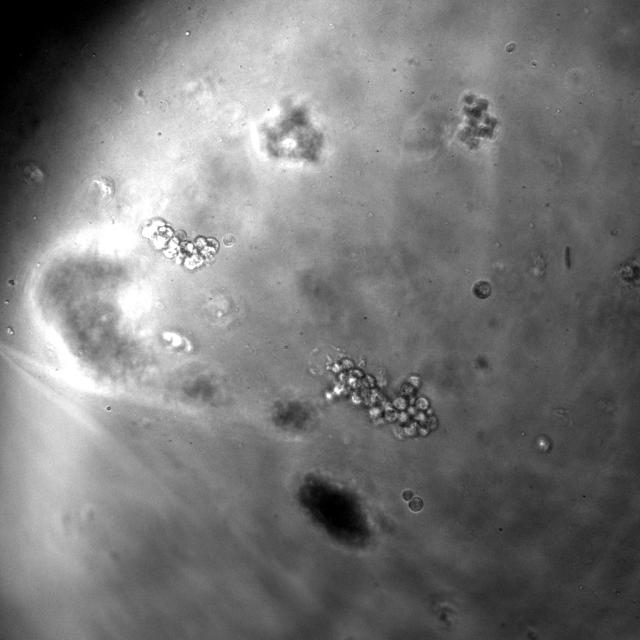organoid: (326, 355, 437, 438), (297, 472, 371, 546), (254, 99, 325, 163), (142, 219, 219, 270), (456, 93, 498, 150), (271, 399, 312, 430), (402, 490, 423, 512), (472, 280, 491, 299), (222, 234, 234, 247)
